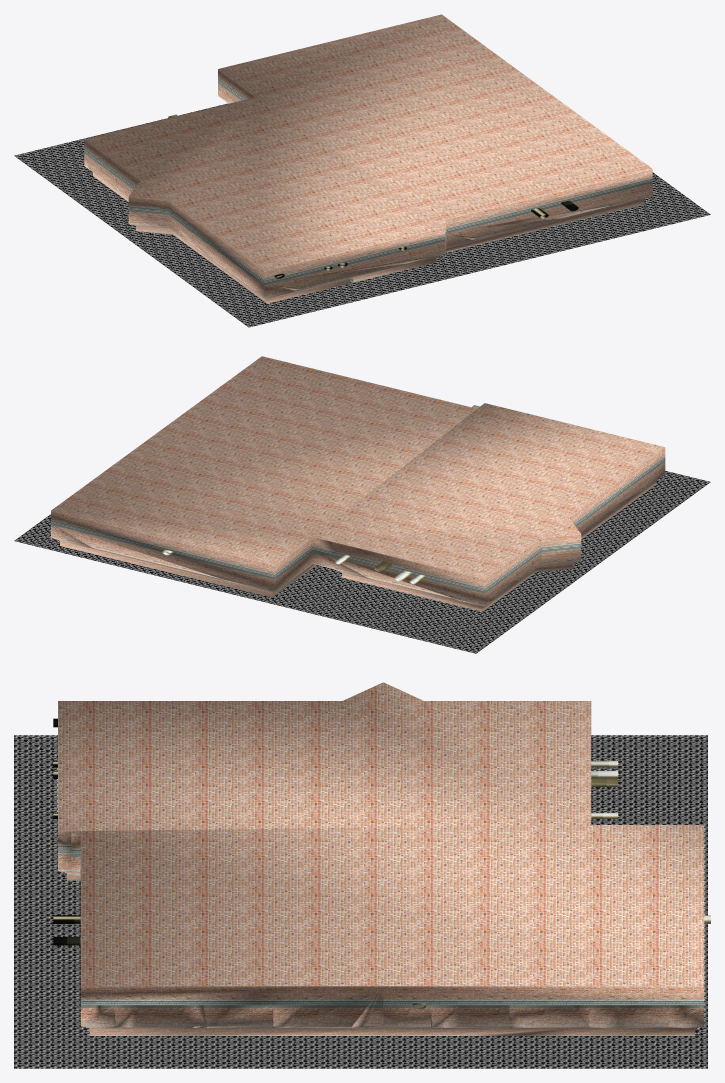
3 views of the same model, one above another, from view 1: azimuth 30°, elevation 25°; view 2: azimuth 150°, elevation 25°; view 3: azimuth 270°, elevation 25° (orthographic). The views are drawn at different scales.
Visible parts, largest first — view 1: roof.009, water.020, brick_wall.003; view 2: roof.009, brick_wall.003, water.020; view 3: roof.009, water.020, brick_wall.003, metal.005.
Boxes of the visible parts, bbox=[...] form: roof.009: bbox=[84, 14, 652, 270]; water.020: bbox=[14, 104, 710, 327]; brick_wall.003: bbox=[84, 69, 652, 303]; roof.009: bbox=[51, 356, 664, 578]; brick_wall.003: bbox=[51, 447, 665, 611]; water.020: bbox=[14, 471, 710, 653]; roof.009: bbox=[58, 682, 704, 986]; water.020: bbox=[14, 735, 707, 1068]; brick_wall.003: bbox=[57, 768, 704, 1035]; metal.005: bbox=[53, 718, 710, 1009].
Size of the model in its own units: 101629 by 8813 by 89773.
Materials: 16 (16 with a texture image).
